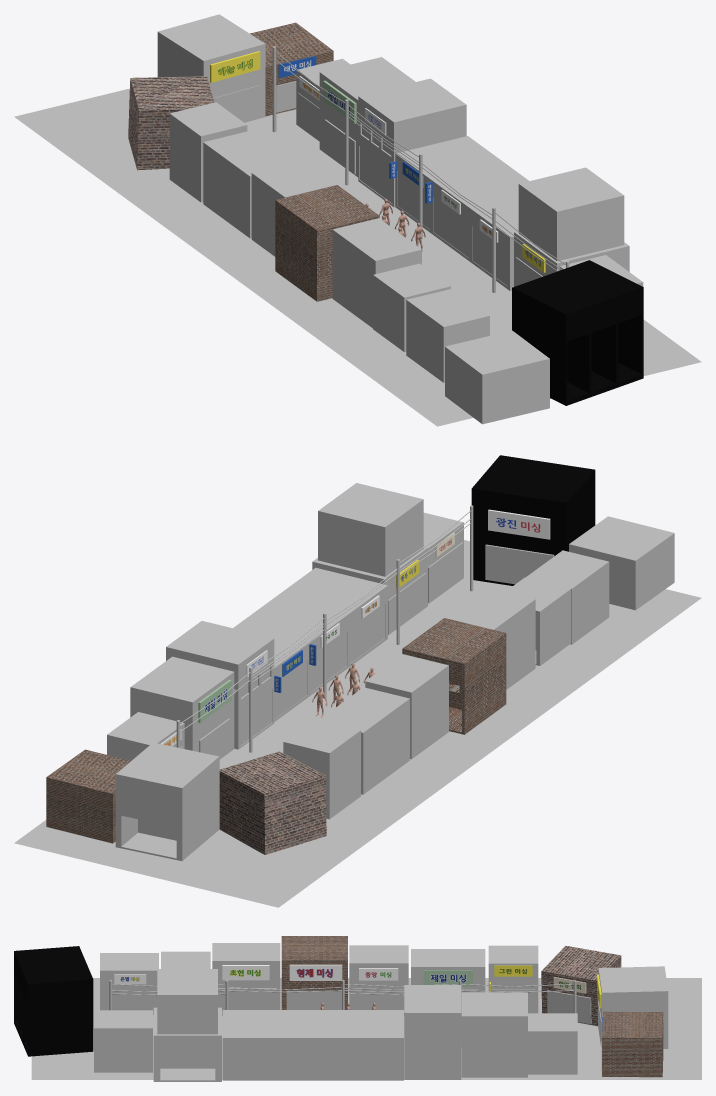
File: factory front.fbx
3 renders of one model, top to bottom at view 1: azimuth 30°, elevation 25°; view 2: azimuth 150°, elevation 25°; view 3: azimuth 270°, elevation 25°, orthographic. The views are drawn at different scales.
Visible parts, largest first — view 1: pCylinder16, building17_pCube2, pPlane28, pPlane29, pCube57, pCube49, pPlane34, pCube52, building16_pCube25, building15_pCube30, pCube28, pPlane33 (+6 smaller); view 2: pCylinder16, building17_pCube2, pPlane28, pPlane29, pPlane34, pPlane33, pCube28, pCube52, pCube57, pCube49, pPlane35, building15_pCube30 (+7 smaller); view 3: pPlane28, pCylinder16, building17_pCube2, pPlane29, pCube28, pCube57, pCube52, building16_pCube25, pPlane35, pPlane33, pPlane32, pCube53 (+6 smaller).
Boxes of the visible parts, x1,y1,x2,y2 form: pCylinder16: (14, 46, 701, 426); building17_pCube2: (512, 260, 643, 405); pPlane28: (389, 136, 529, 290); pPlane29: (514, 167, 629, 286); pCube57: (358, 78, 466, 207); pCube49: (445, 330, 549, 424); pPlane34: (157, 14, 265, 122); pCube52: (275, 185, 379, 301); building16_pCube25: (332, 218, 421, 327); building15_pCube30: (203, 131, 292, 238); pCube28: (319, 57, 415, 177); pPlane33: (128, 76, 214, 170); pCylinder16: (14, 505, 701, 907); building17_pCube2: (471, 455, 595, 585); pPlane28: (233, 567, 387, 721); pPlane29: (312, 483, 427, 635); pPlane34: (115, 742, 219, 860); pPlane33: (219, 751, 326, 854); pCube28: (130, 656, 234, 759); pCube52: (402, 618, 506, 734); pCube57: (166, 621, 274, 749); pCube49: (569, 516, 674, 610); pPlane35: (46, 749, 130, 843); building15_pCube30: (319, 687, 409, 794); pPlane28: (222, 1009, 403, 1080); pCylinder16: (31, 978, 701, 1079); building17_pCube2: (14, 946, 93, 1056); pPlane29: (153, 969, 221, 1081); pCube28: (461, 992, 527, 1077); pCube57: (404, 985, 461, 1079); pCube52: (281, 936, 347, 1009); building16_pCube25: (212, 943, 280, 1015); pPlane35: (601, 1011, 663, 1077); pPlane33: (541, 945, 621, 1026); pPlane32: (349, 945, 408, 1015); pCube53: (94, 1010, 152, 1072).
Size of the model in its own units: 1770 by 695 by 4944.
